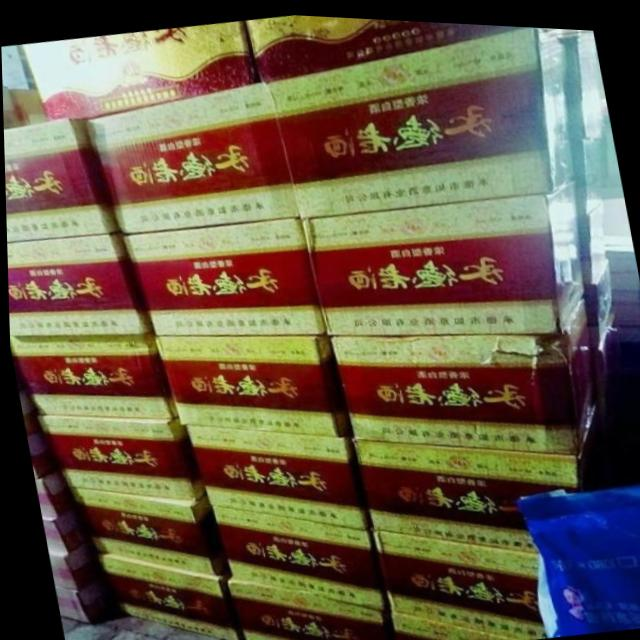box: (265, 21, 575, 217), (300, 170, 583, 331), (326, 288, 599, 448), (352, 395, 614, 548), (85, 79, 300, 234), (122, 217, 324, 336), (22, 18, 257, 120), (154, 331, 351, 433), (370, 523, 542, 634), (185, 422, 368, 526), (245, 12, 524, 80), (209, 503, 387, 606), (6, 229, 150, 335), (9, 329, 176, 418), (3, 117, 119, 242), (35, 415, 202, 500), (67, 488, 226, 576), (91, 549, 236, 640), (229, 575, 388, 640), (562, 27, 603, 133), (389, 609, 520, 640), (581, 254, 613, 344), (52, 580, 113, 625), (45, 542, 101, 588), (578, 194, 605, 278), (575, 133, 603, 212), (39, 513, 91, 553), (33, 471, 77, 516), (10, 87, 46, 125), (2, 87, 20, 128)
